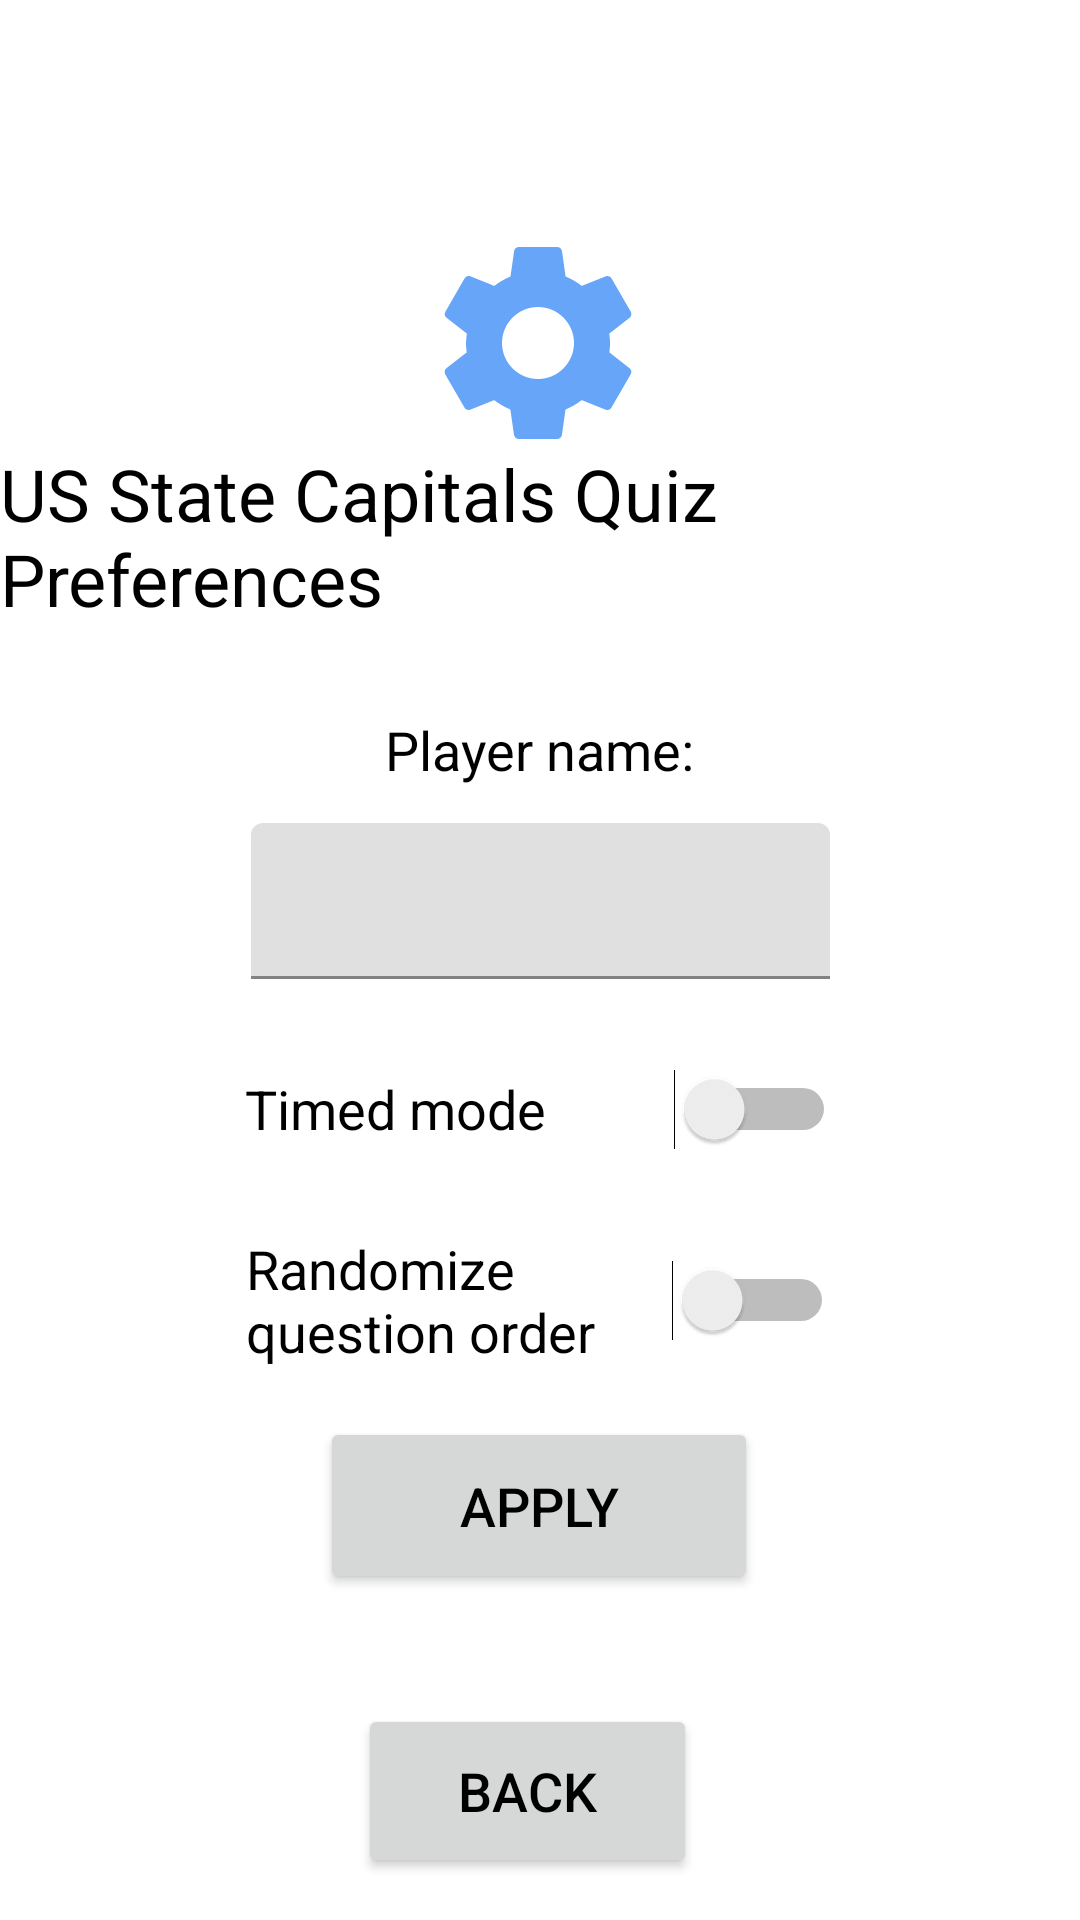

Icons on this 1080px x 1920px Android screen, each with the point to tap as (x=x, y=y):
settings: (x=538, y=343)
